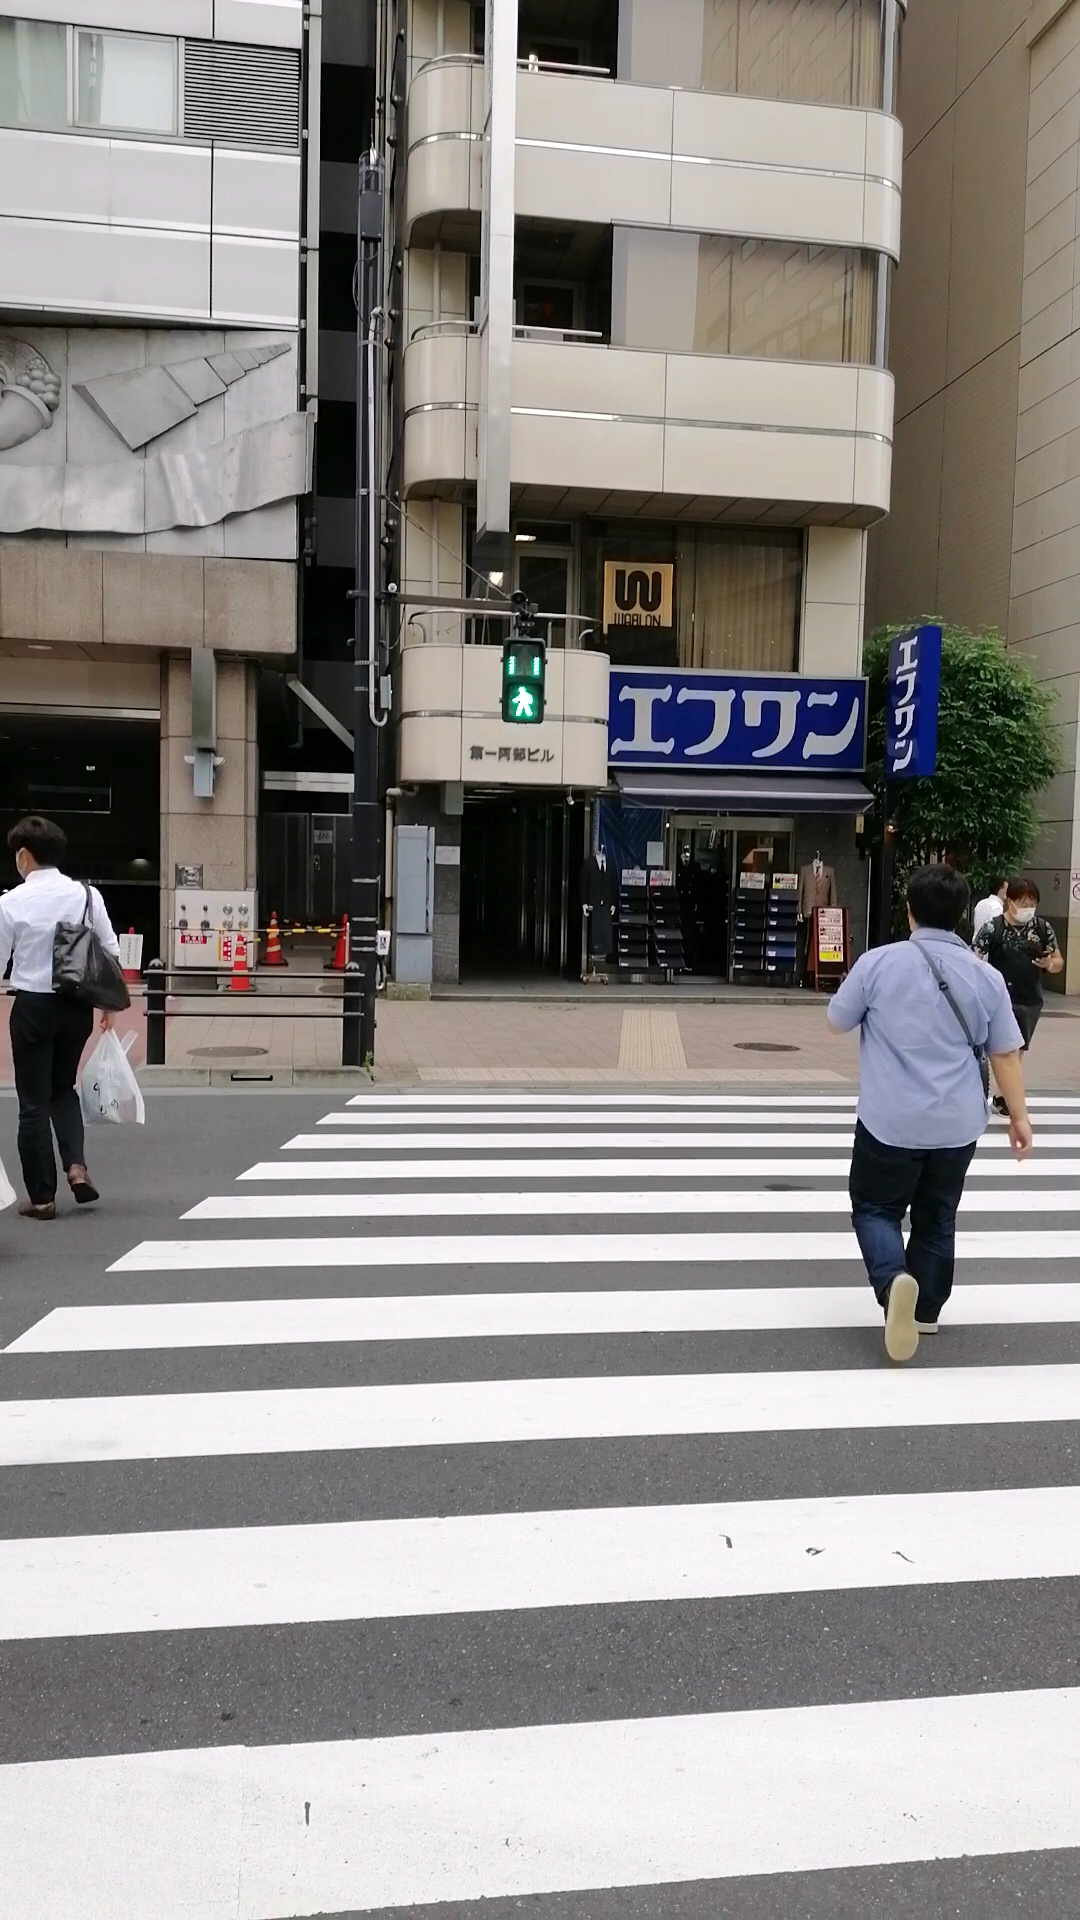green: (501, 637, 545, 723)
